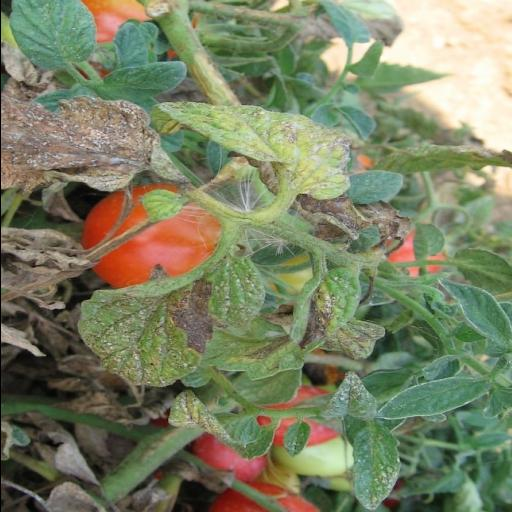Spider Mites: (74, 251, 266, 389), (156, 102, 350, 200), (350, 424, 400, 512)
